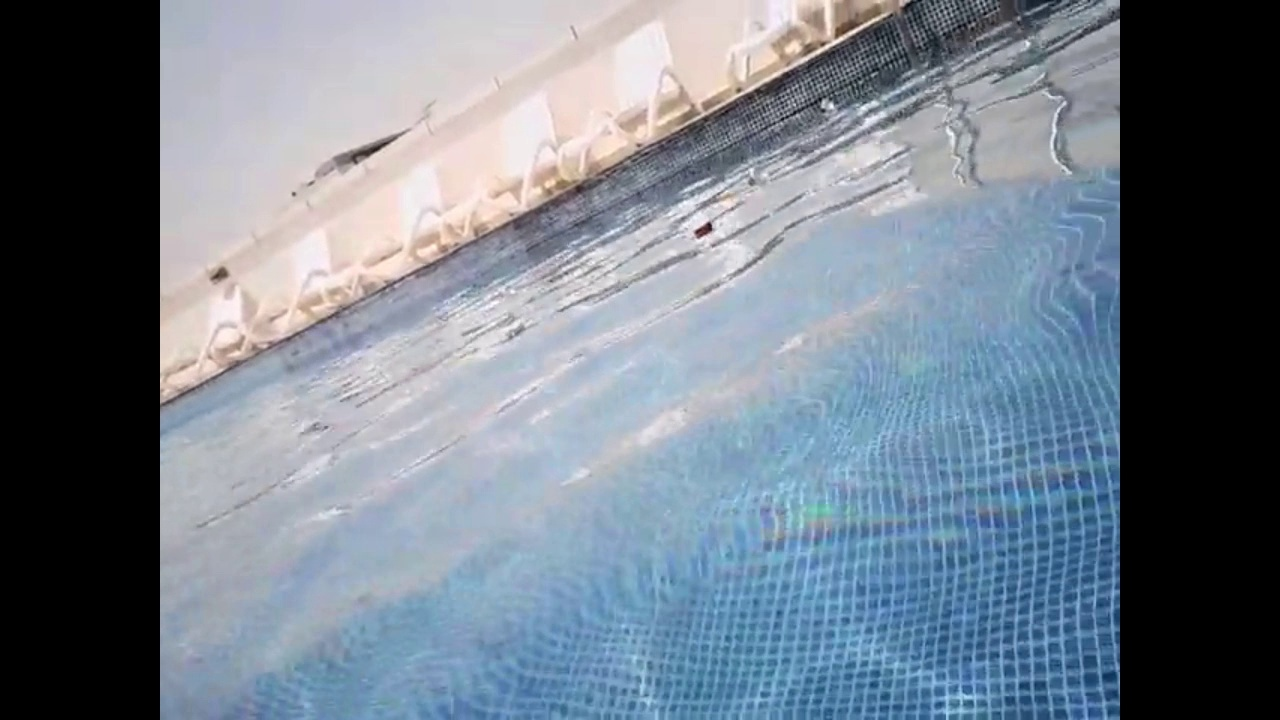debris: (686, 217, 722, 250), (740, 165, 774, 189), (814, 94, 839, 119)
